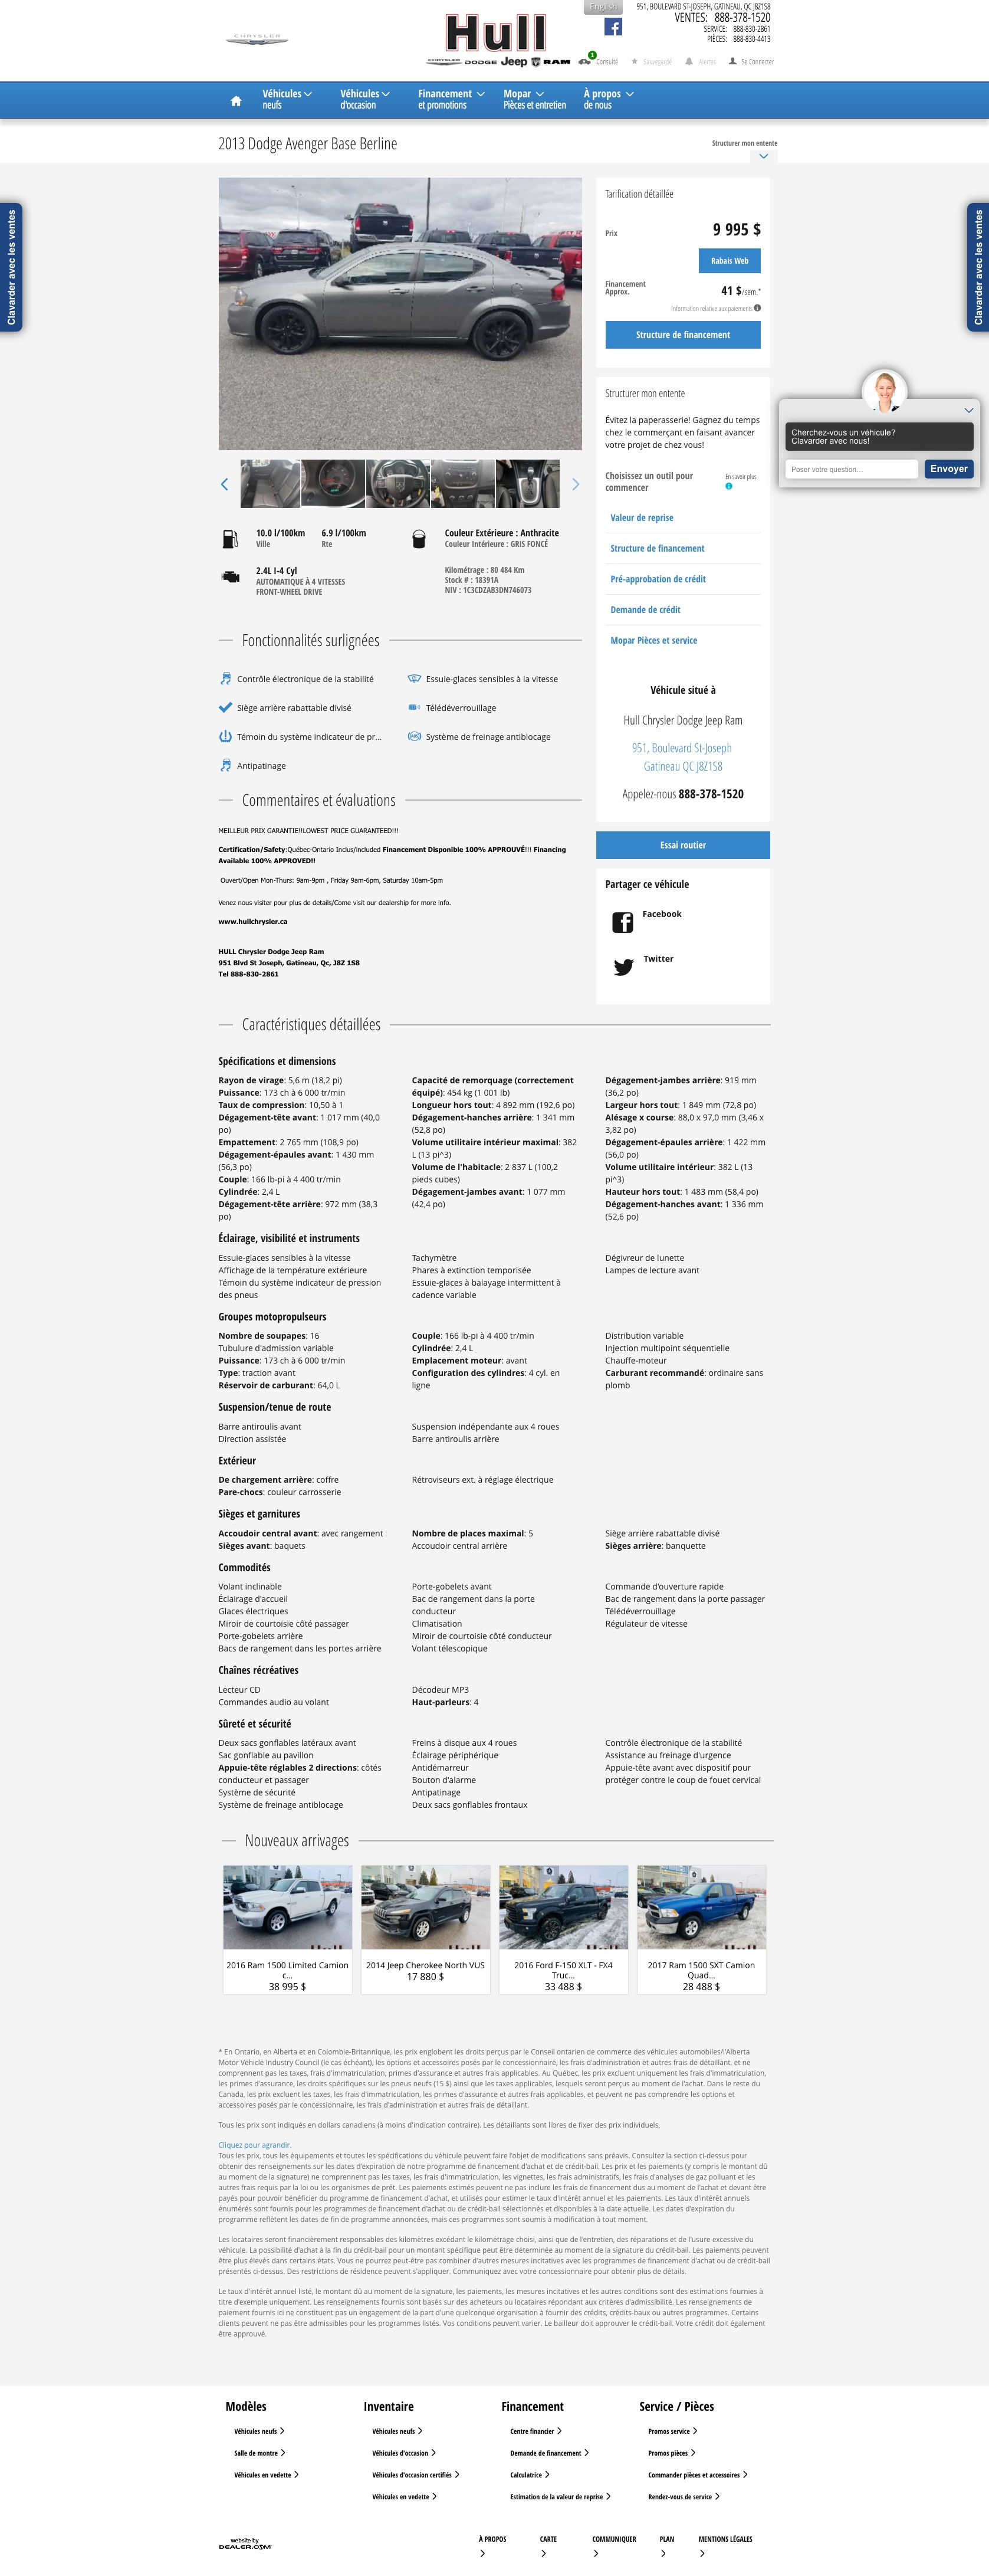car: (573, 478, 580, 491)
